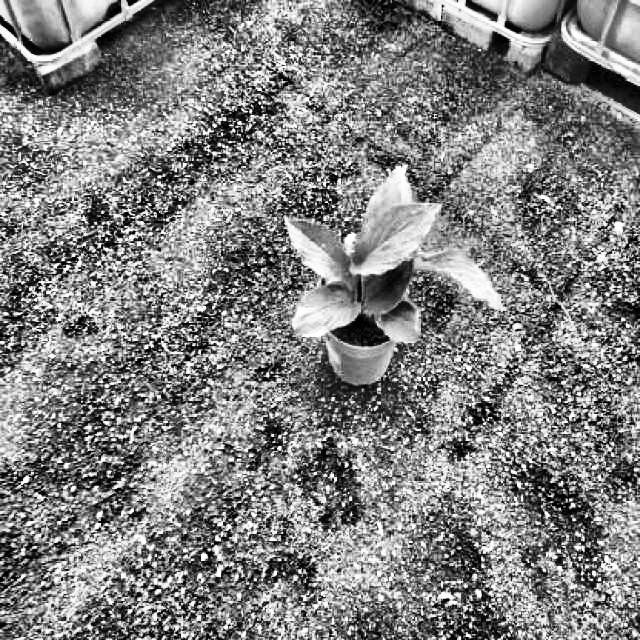plants: (279, 164, 501, 353)
